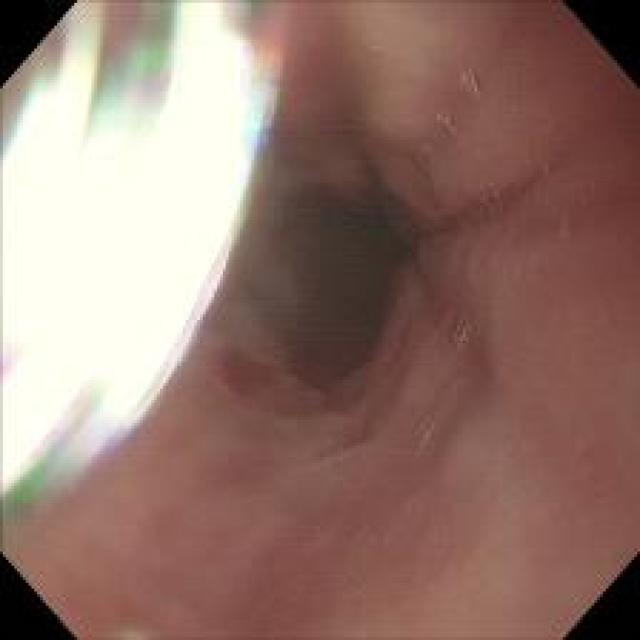blur: (364, 2, 636, 636)
bubbles: (458, 68, 486, 99), (434, 108, 460, 135), (411, 138, 436, 165), (556, 214, 576, 241)
color misalignment: (1, 334, 145, 531), (76, 2, 195, 148), (2, 18, 68, 152), (236, 6, 295, 148)
specularity: (1, 1, 278, 492)
